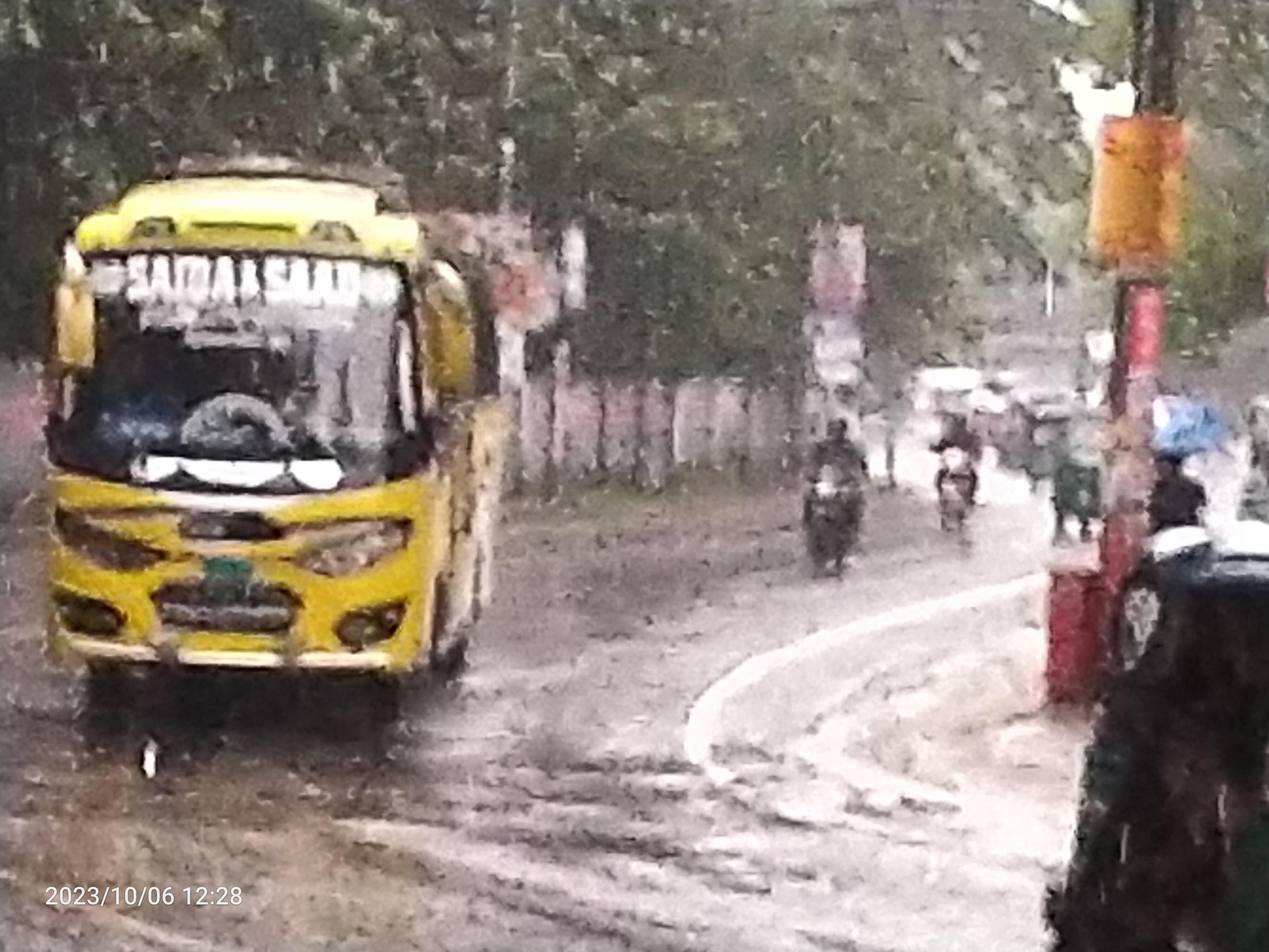Bike: (792, 402, 891, 581), (924, 402, 996, 547)
Bus: (21, 136, 521, 737)
